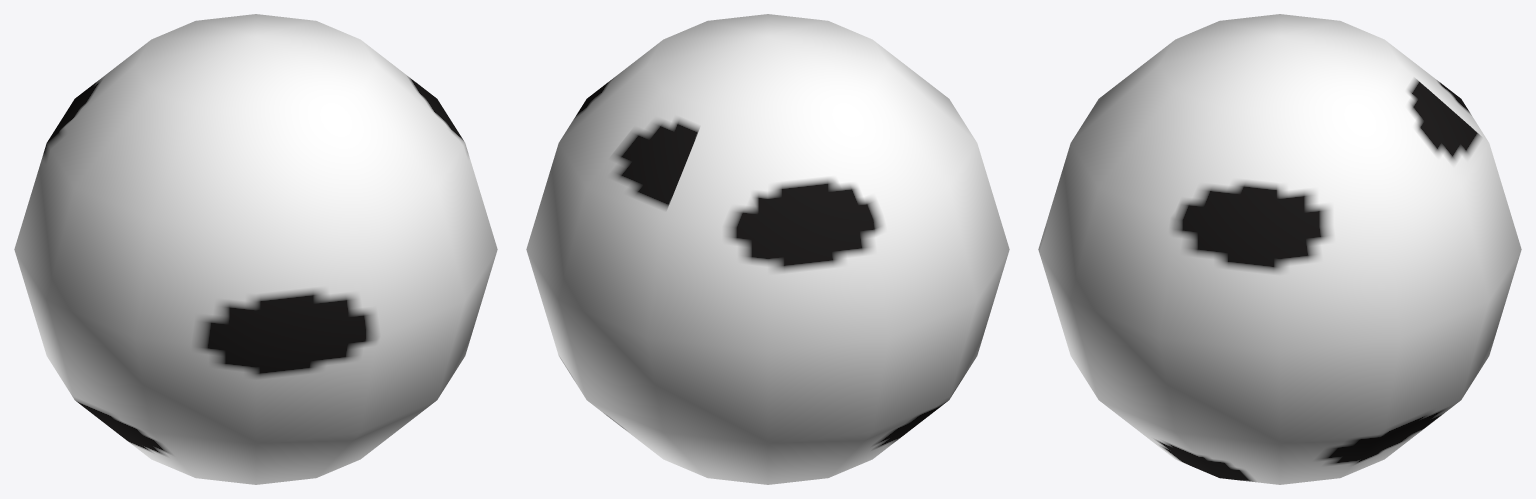
The model's file is Football.FBX.
The picture shows the model from 3 angles, left to right: view 1: azimuth 30°, elevation 25°; view 2: azimuth 150°, elevation 25°; view 3: azimuth 270°, elevation 25°; orthographic projection.
Visible parts, largest first — view 1: Football; view 2: Football; view 3: Football.
Boxes of the visible parts, box(x1,y1,x2,y2) form: Football: box(14, 14, 497, 484); Football: box(526, 14, 1009, 484); Football: box(1038, 14, 1521, 484).
Bounding box in the file's own units: 9.2 × 8.94 × 9.2.
1 material, 1 textured.
